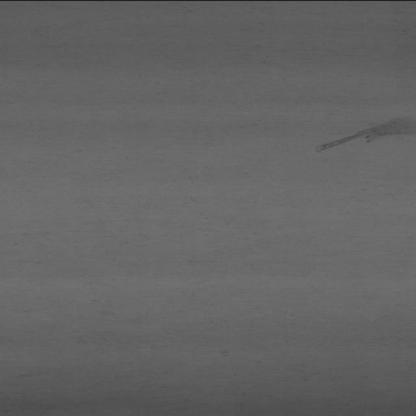water_spot: (304, 112, 416, 162)
